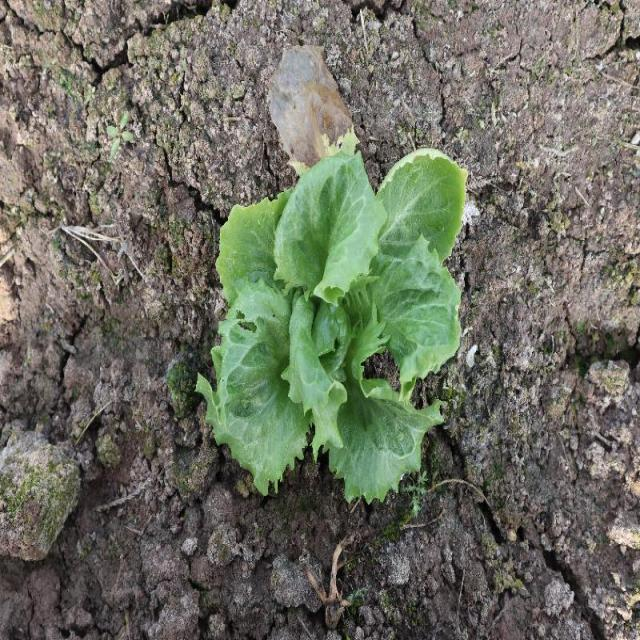crop: (196, 147, 469, 506)
